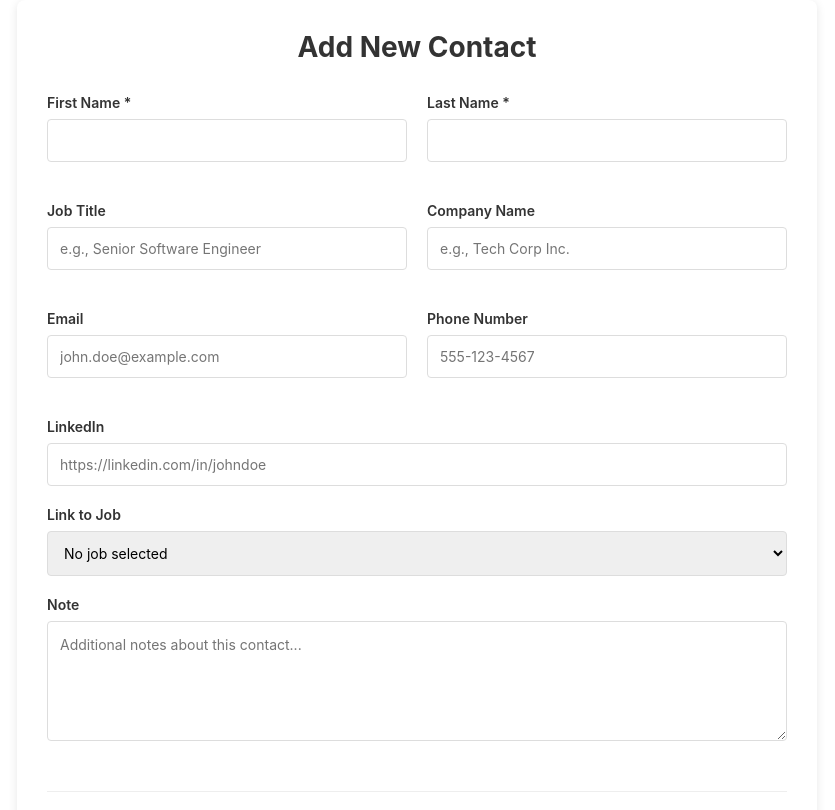
Test case: ContactForm Component › Form Field Interactions › formats phone number on change
Type "5551234567" into the field labelled "Phone Number" at x=607, y=356, box [427, 335, 787, 378]
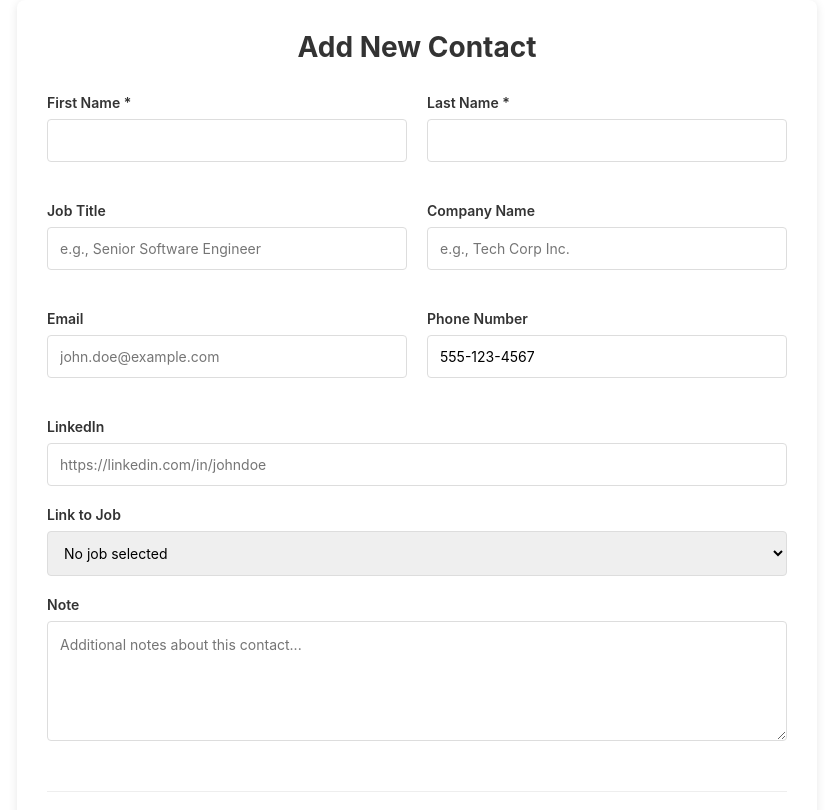
Result: the field labelled "Phone Number" holds "555-123-4567" at [427, 335, 787, 378]
